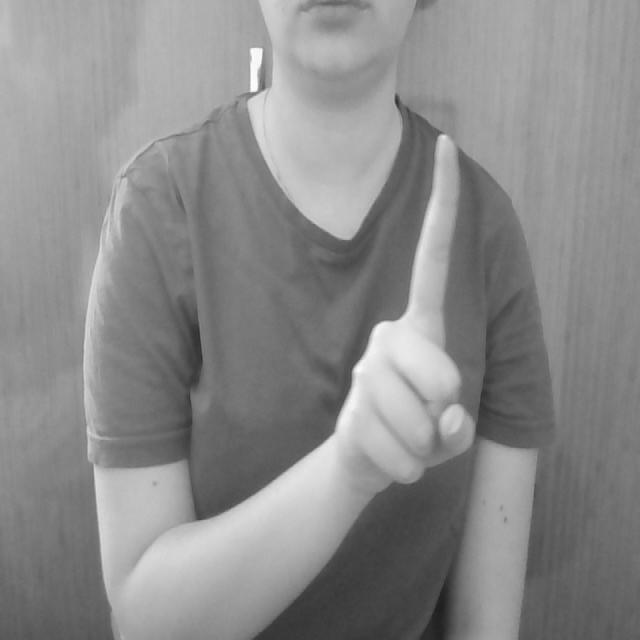Hayir: (341, 126, 497, 528)
